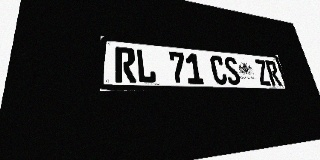1: (184, 53, 204, 84)
7: (168, 51, 188, 84)
C: (209, 55, 228, 85)
L: (136, 48, 157, 83)
R: (115, 47, 137, 83), (265, 60, 282, 86)
S: (223, 56, 242, 85)
Z: (254, 59, 272, 85)
